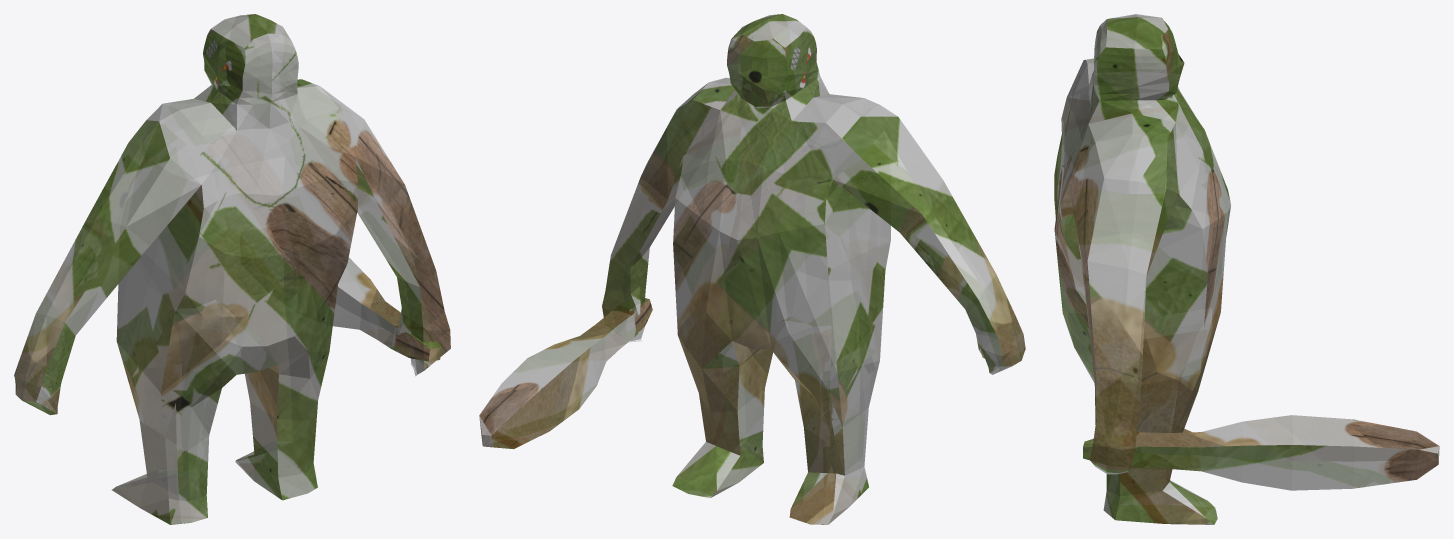
The model's file is Enemigo25.obj.
The picture shows the model from 3 angles, left to right: view 1: azimuth 30°, elevation 25°; view 2: azimuth 150°, elevation 25°; view 3: azimuth 270°, elevation 25°; orthographic projection. The views are drawn at different scales.
Visible parts, largest first — view 1: Cube; view 2: Cube; view 3: Cube.
Boxes of the visible parts, x1,y1,x2,y2 form: Cube: (14,14,450,524); Cube: (479,14,1025,524); Cube: (1054,14,1439,524).
Bounding box in the file's own units: 2.52 × 2.7 × 1.96.
1 material, 1 textured.
